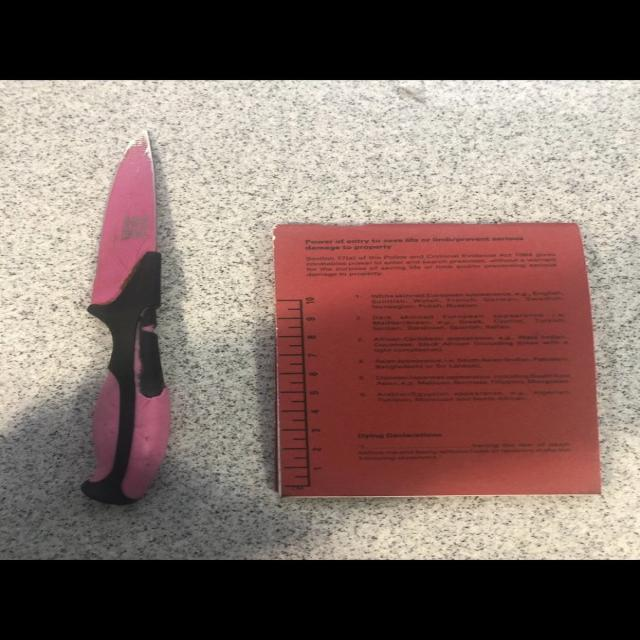Sharp-Object: (92, 128, 160, 506)
